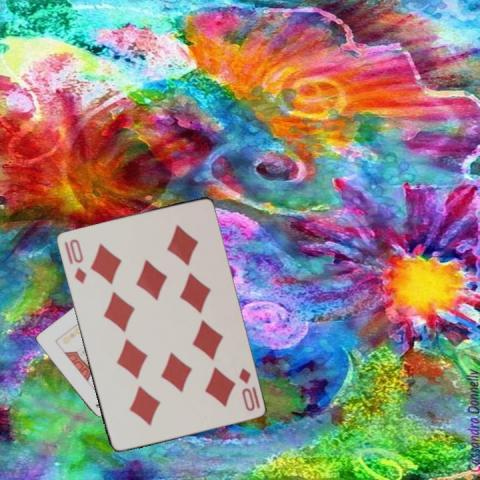10d: (66, 235, 87, 285), (235, 364, 256, 412)
